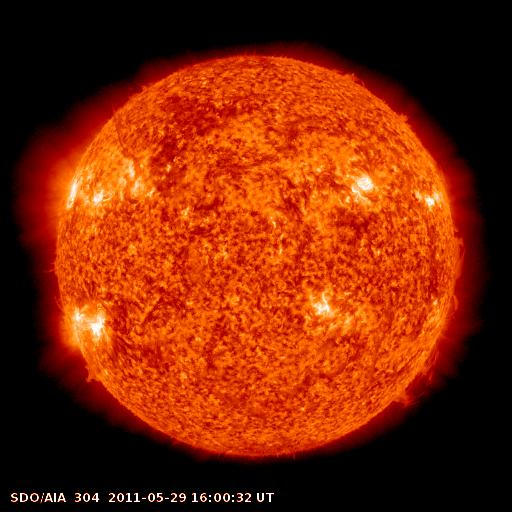prominence: (389, 290, 465, 410), (446, 224, 477, 279), (78, 351, 105, 393)
